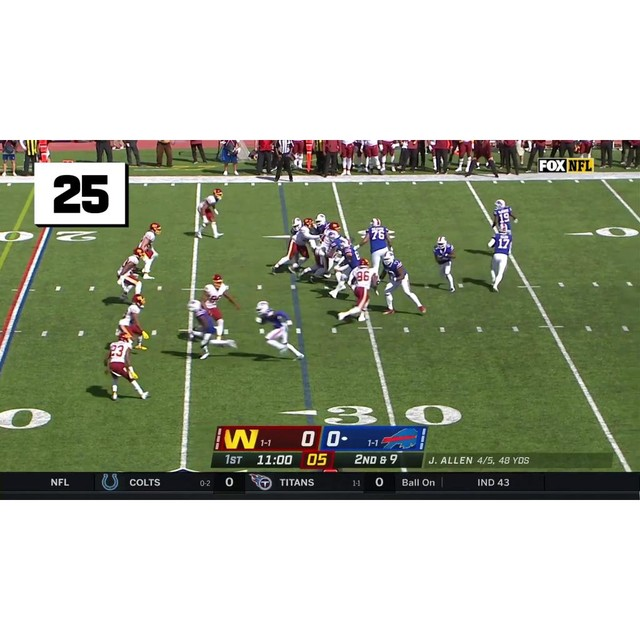american-football-player: (181, 299, 236, 361), (104, 331, 149, 402), (381, 251, 426, 316), (333, 259, 378, 323), (255, 301, 304, 359), (269, 217, 317, 275), (201, 274, 241, 342), (482, 223, 515, 293), (359, 218, 392, 286), (298, 230, 338, 281), (116, 294, 149, 350), (115, 247, 145, 302), (135, 223, 162, 279), (432, 236, 458, 293), (194, 188, 223, 239), (491, 198, 518, 233)
referee: (272, 140, 296, 183)
